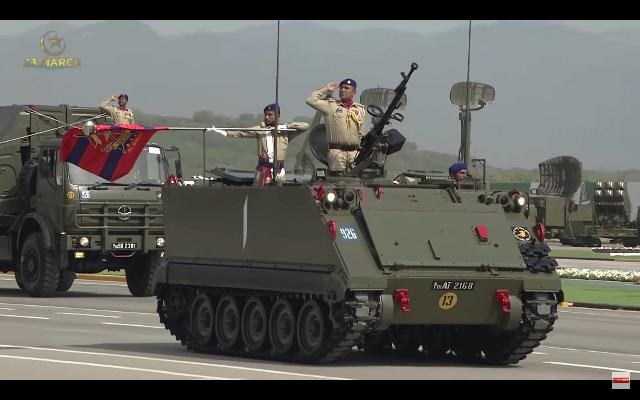plate: (431, 279, 477, 291)
